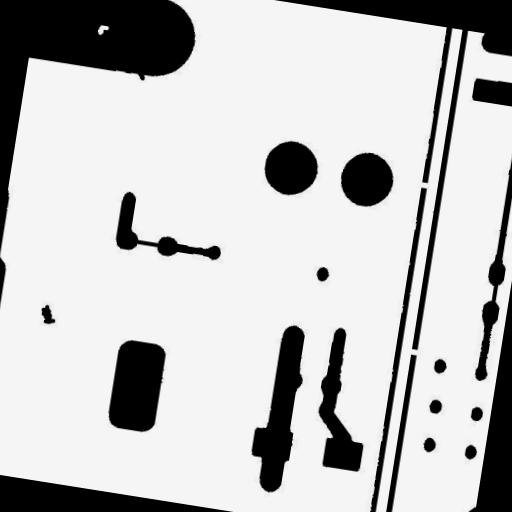copper: (32, 296, 63, 330)
open: (410, 174, 434, 194), (403, 342, 425, 361)
pin-hole: (90, 17, 116, 42)
short: (125, 232, 170, 254), (483, 274, 505, 309)
spur: (128, 62, 152, 86)
